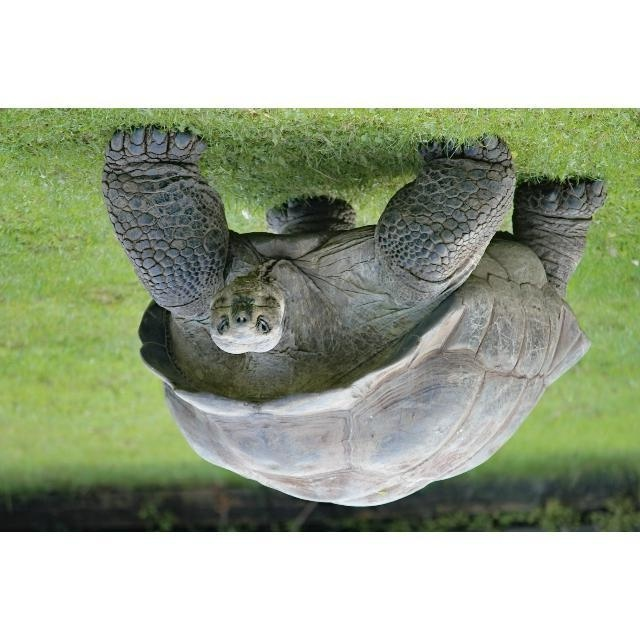turtle: (100, 125, 608, 508)
